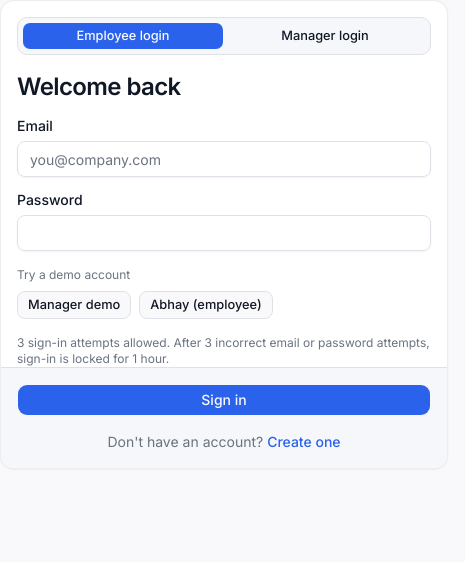
Test: <LoginForm /> › switches the login mode to manager
Step 1. Click the button "Manager login" → (325, 36), box [224, 22, 426, 50]
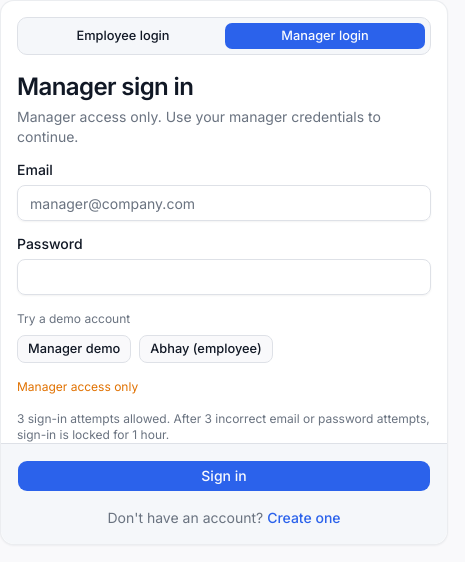
Check: the text "Manager sign in" is shown, box [17, 72, 193, 101]
Check: the field with placeholder "manager@company.com" is shown, box [17, 185, 431, 221]
